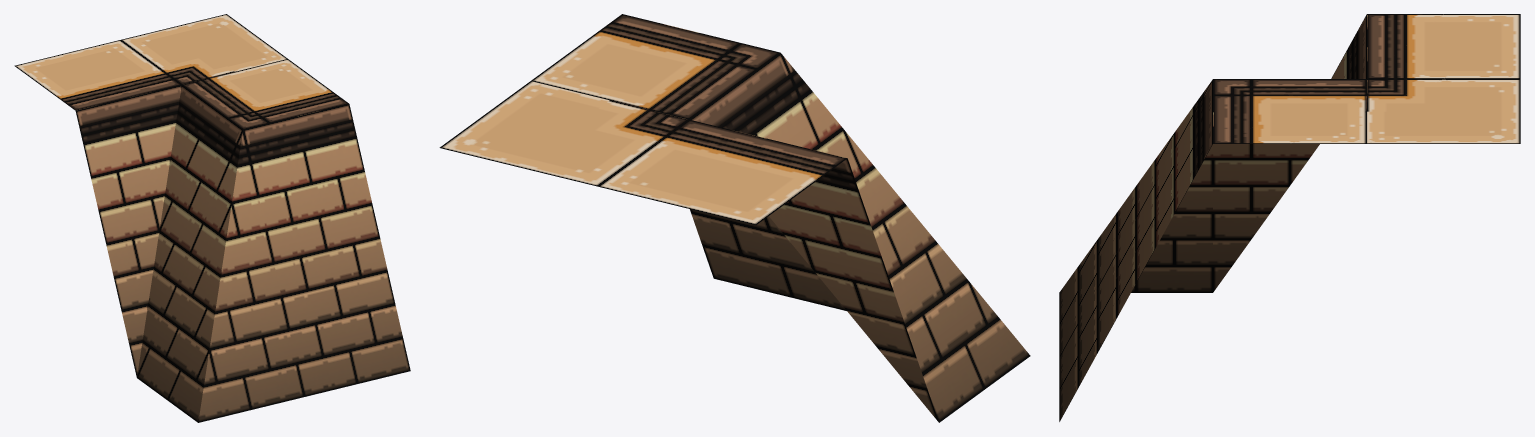
Rendered from wall_cornerOutIn_left.FBX.
3 renders of one model, left to right at view 1: azimuth 30°, elevation 25°; view 2: azimuth 150°, elevation 25°; view 3: azimuth 270°, elevation 25°, orthographic. The views are drawn at different scales.
Visible parts, largest first — view 1: wall_cornerOutIn_left; view 2: wall_cornerOutIn_left; view 3: wall_cornerOutIn_left.
Part boxes in pixels (left/top/right/bottom): wall_cornerOutIn_left: left=14, top=14, right=410, bottom=422; wall_cornerOutIn_left: left=439, top=14, right=1030, bottom=422; wall_cornerOutIn_left: left=1059, top=14, right=1520, bottom=421.
Size of the model in its own units: 4 by 4 by 6.
1 material, 1 textured.
